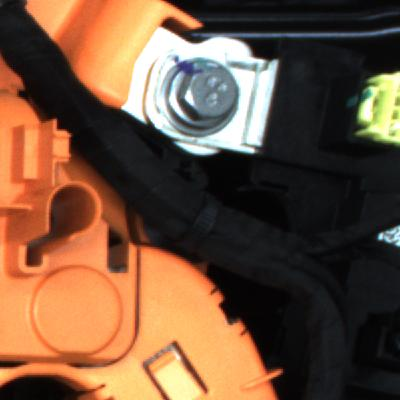nut_b: (143, 46, 260, 139)
